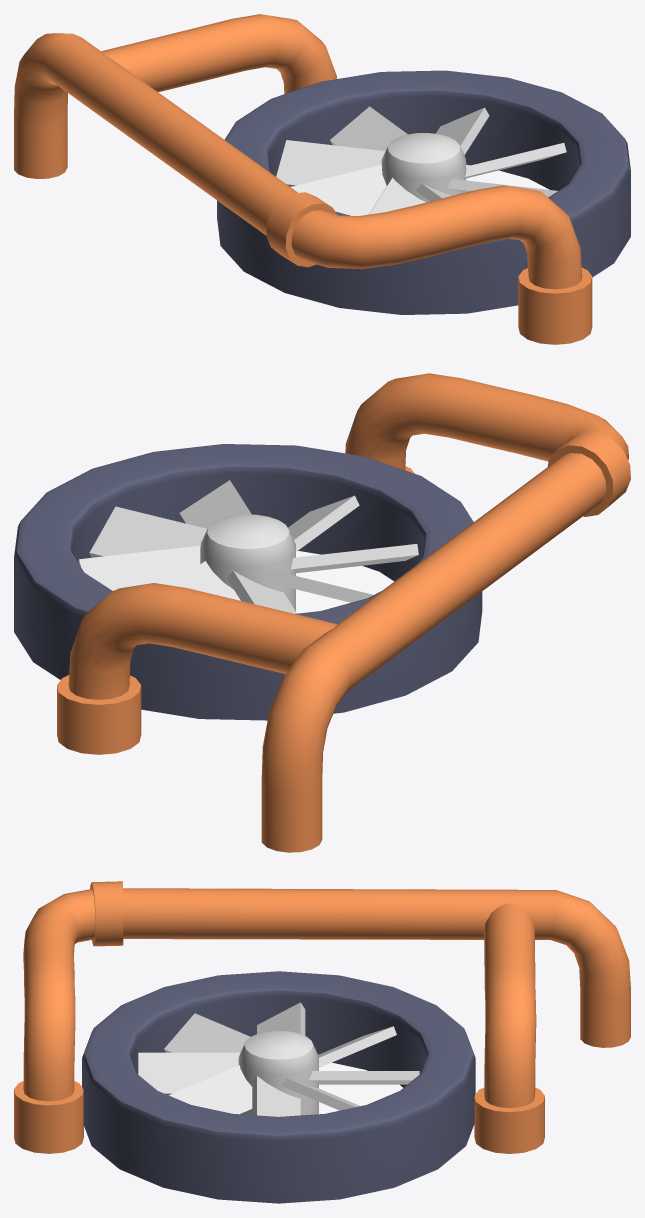
File: Fan.fbx
The picture shows the model from 3 angles, top to bottom: view 1: azimuth 30°, elevation 25°; view 2: azimuth 150°, elevation 25°; view 3: azimuth 270°, elevation 25°; orthographic projection. The views are drawn at different scales.
Parts seen in each view (by area): view 1: Base, Fan; view 2: Base, Fan; view 3: Base, Fan.
Part boxes in pixels (x1=…): Base: x1=14, y1=14, x2=630, y2=344; Fan: x1=276, y1=106, x2=566, y2=215; Base: x1=14, y1=373, x2=630, y2=852; Fan: x1=78, y1=480, x2=418, y2=613; Base: x1=14, y1=881, x2=630, y2=1203; Fan: x1=138, y1=1002, x2=419, y2=1116.
Bounding box in the file's own units: 476 × 175 × 639.
